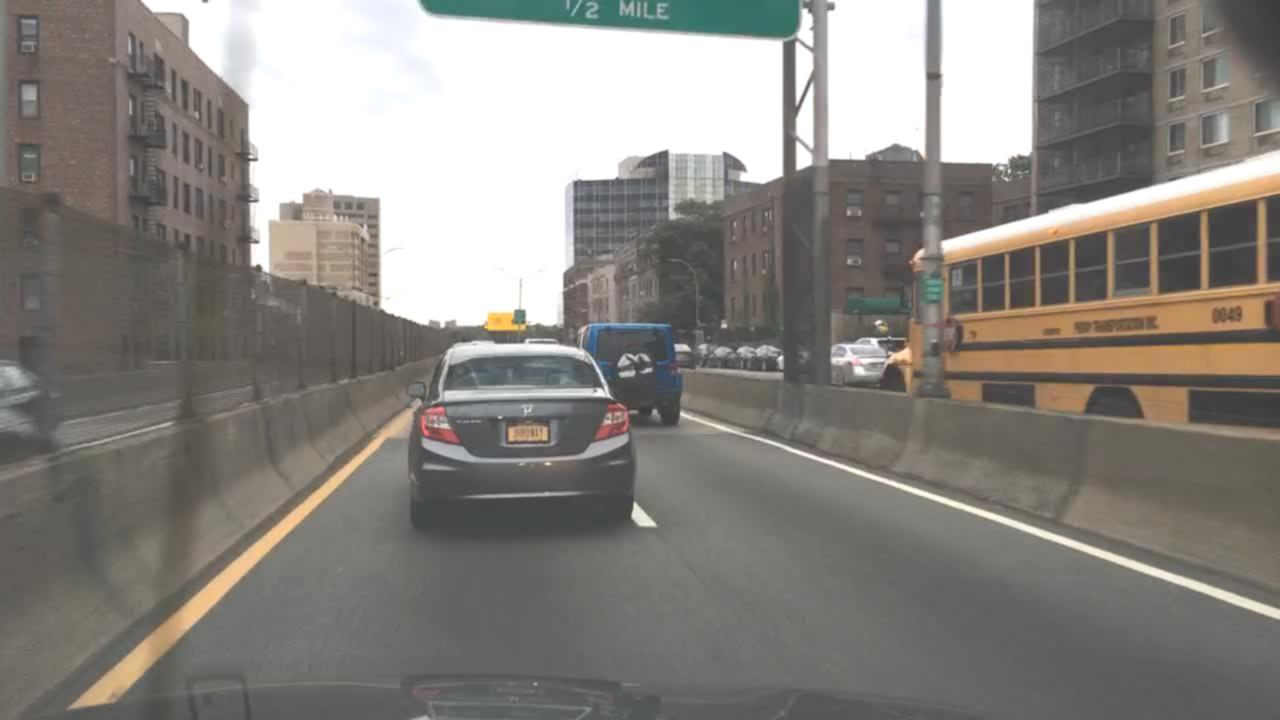Honda: (515, 399, 543, 421)
